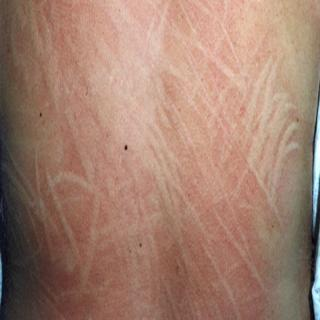urticaria: (18, 117, 143, 320)
